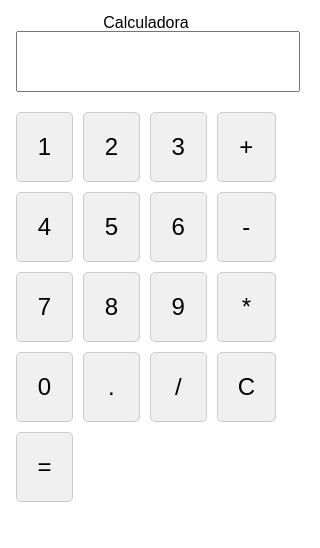
Calculator Component › calculates the result
Click the button "1" at (44, 147), box [16,112,73,182]
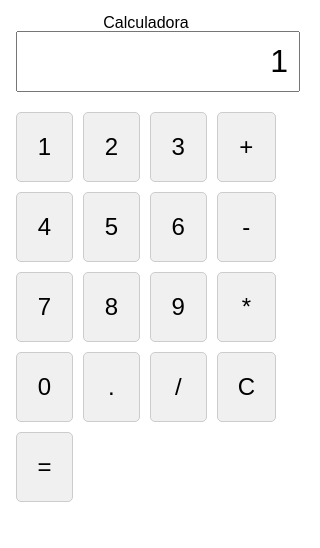
Click the button "+" at (246, 147), box [217,112,276,182]
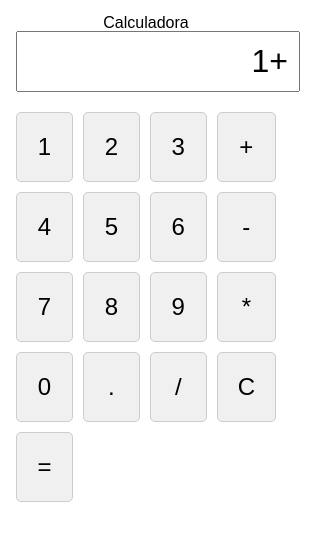
Click the button "1" at (44, 147), box [16,112,73,182]
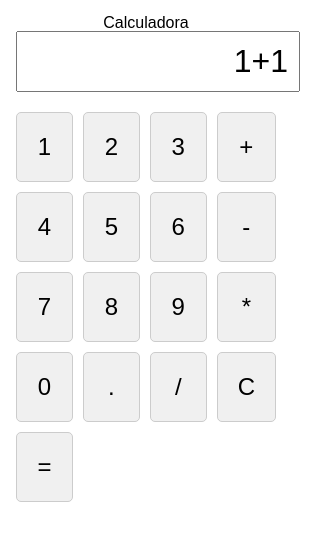
Click the button "=" at (44, 467), box [16,432,73,502]
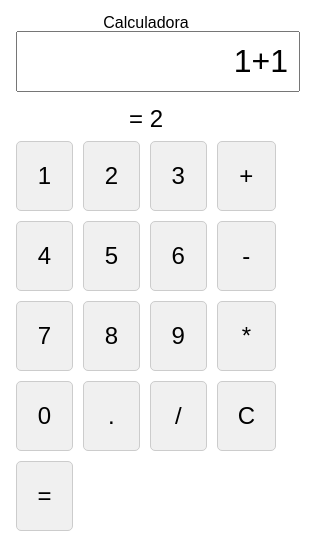
Check: the text "= 2" is shown, box [129,105,163,132]
